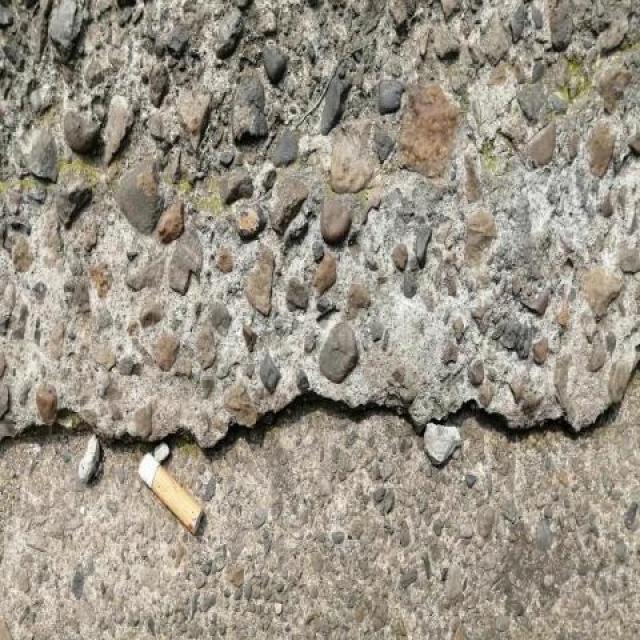non-organic waste: (132, 446, 208, 541)
